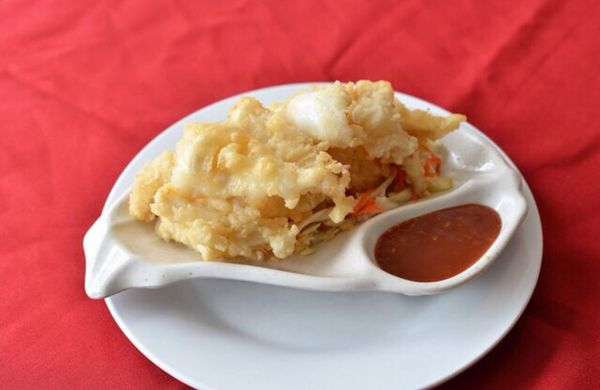curry: (0, 0, 581, 390)
